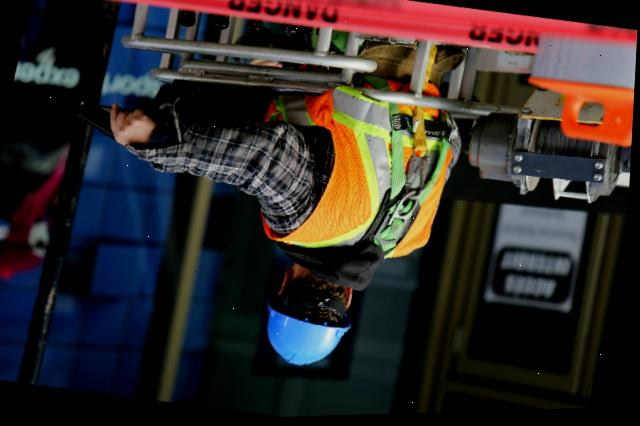helmet: (255, 301, 360, 376)
vest: (246, 25, 497, 276)
